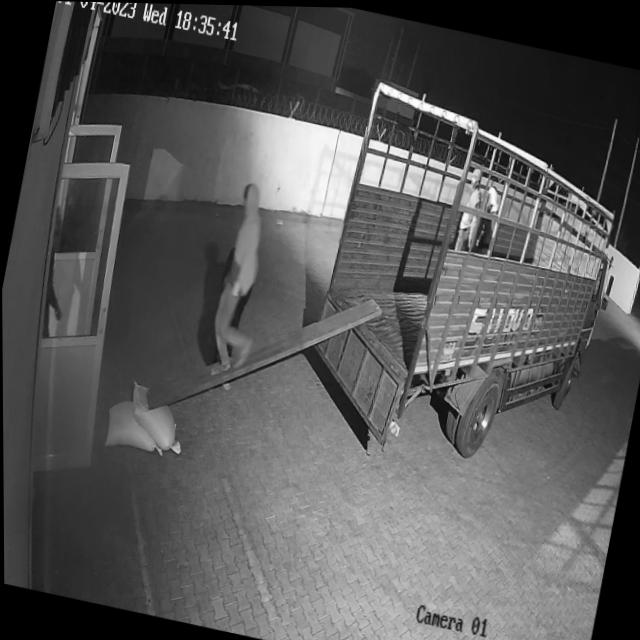sack: (121, 379, 190, 453), (102, 397, 170, 457)
